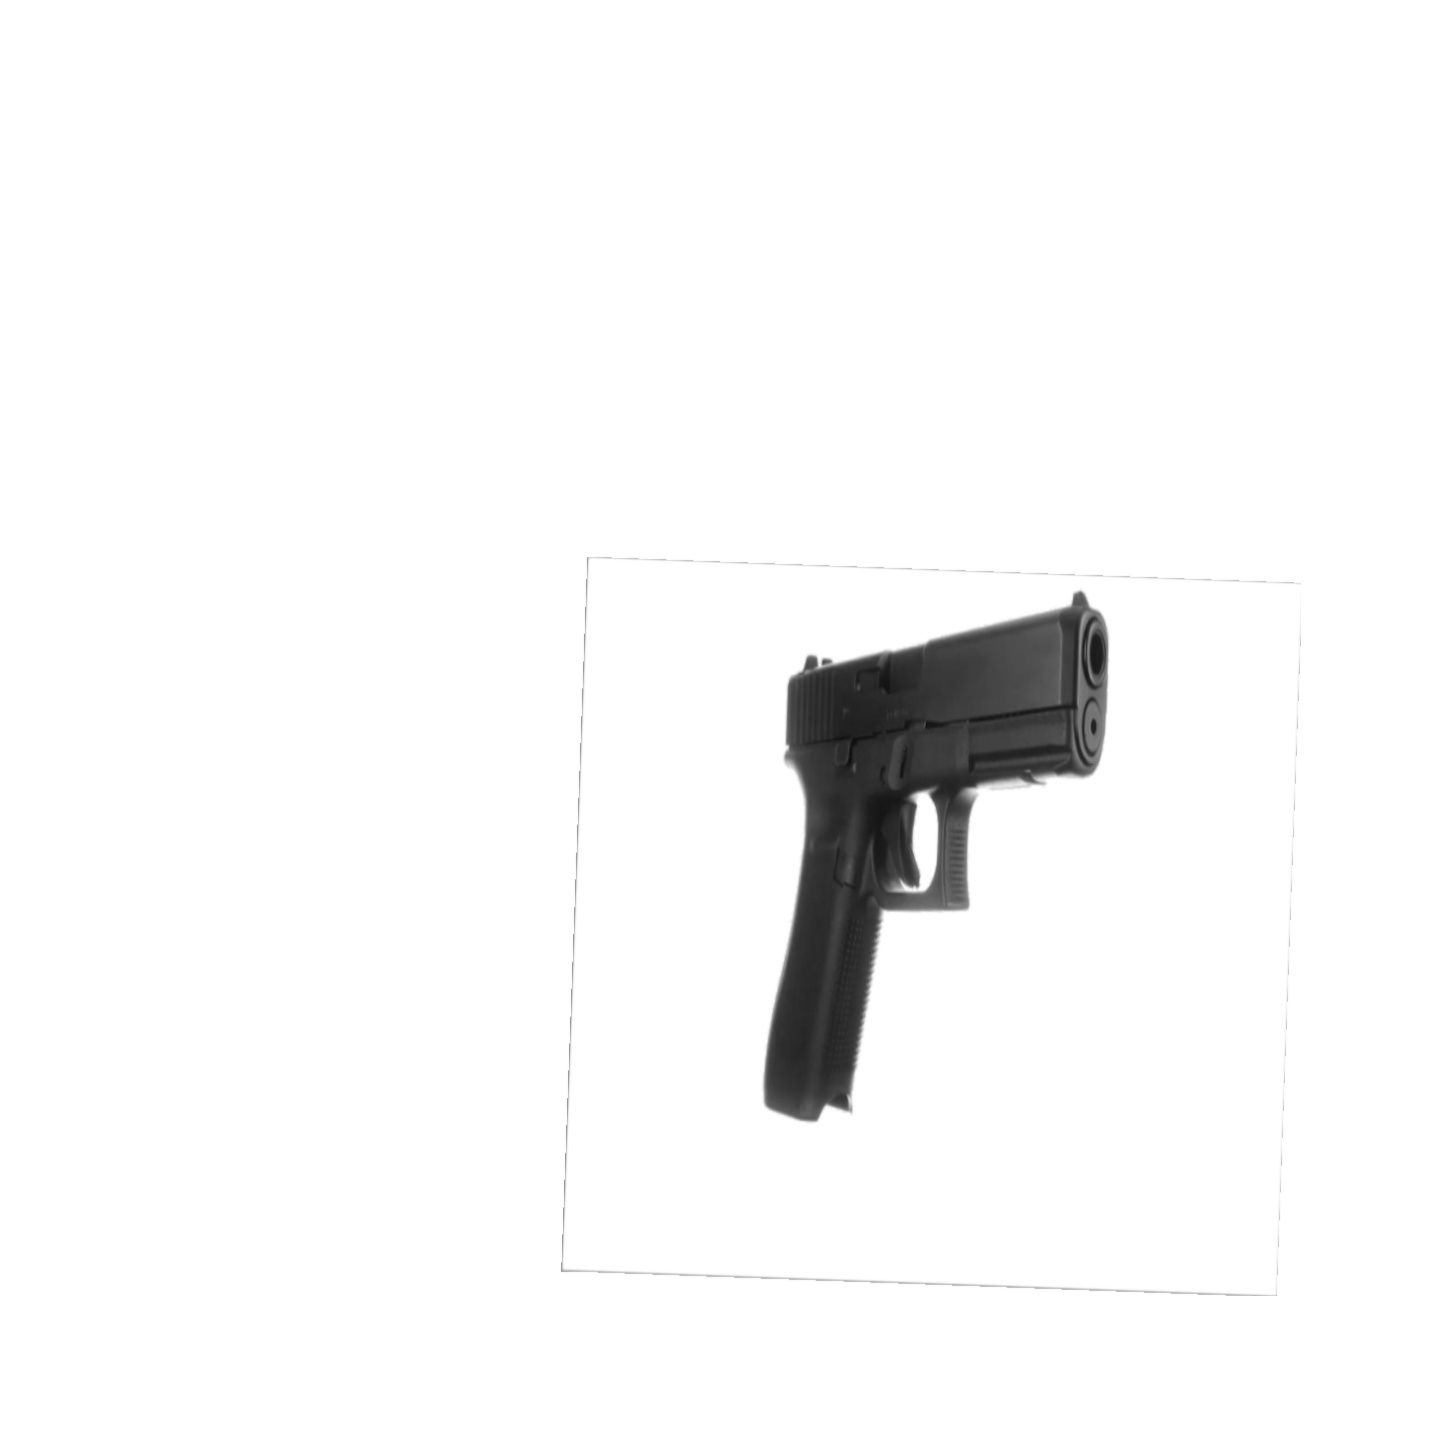gun: (761, 593, 1111, 1123)
